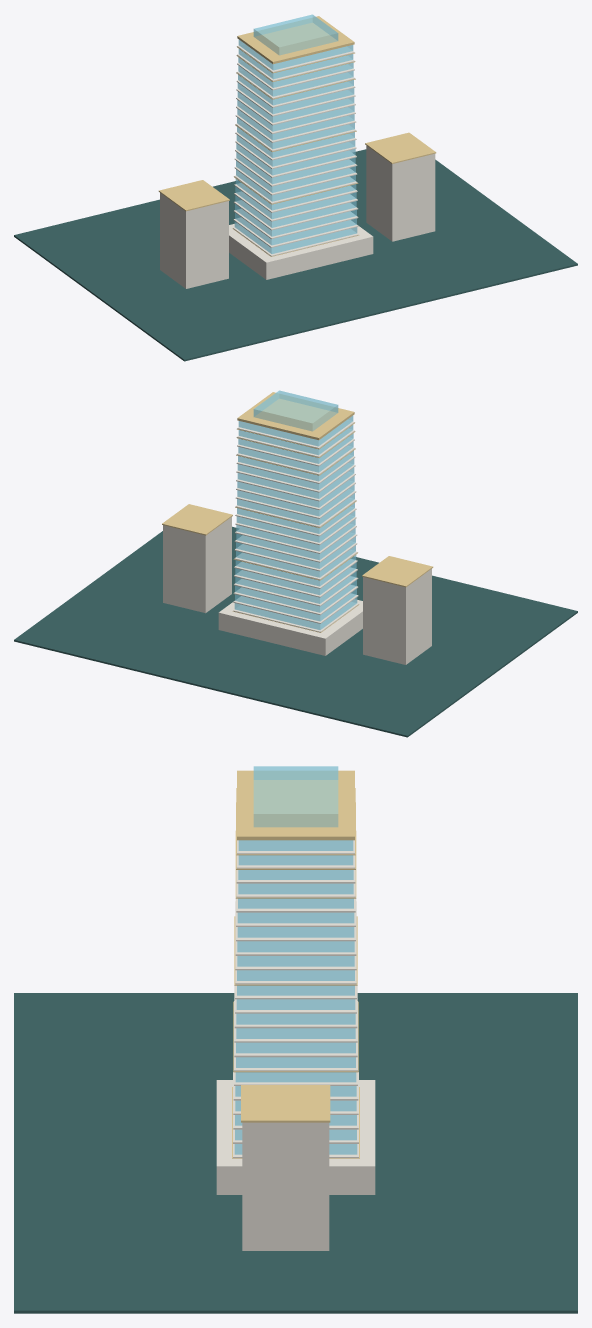
The model's file is dimri.glb.
The picture shows the model from 3 angles, top to bottom: view 1: azimuth 30°, elevation 25°; view 2: azimuth 150°, elevation 25°; view 3: azimuth 270°, elevation 25°; orthographic projection. The views are drawn at different scales.
Visible parts, largest first — view 1: building; view 2: building; view 3: building.
Part boxes in pixels (x1,y1,x2,y2): building: (14, 14, 577, 361); building: (14, 390, 577, 737); building: (14, 766, 577, 1313).
Size of the model in its own units: 147 by 78.7 by 110.
